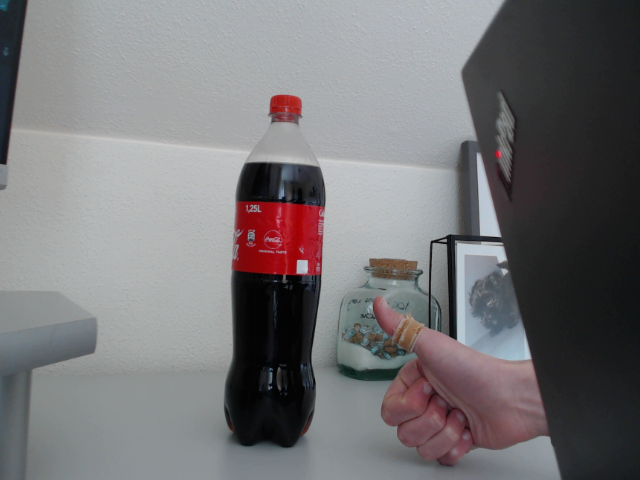bottle: (224, 94, 326, 448)
